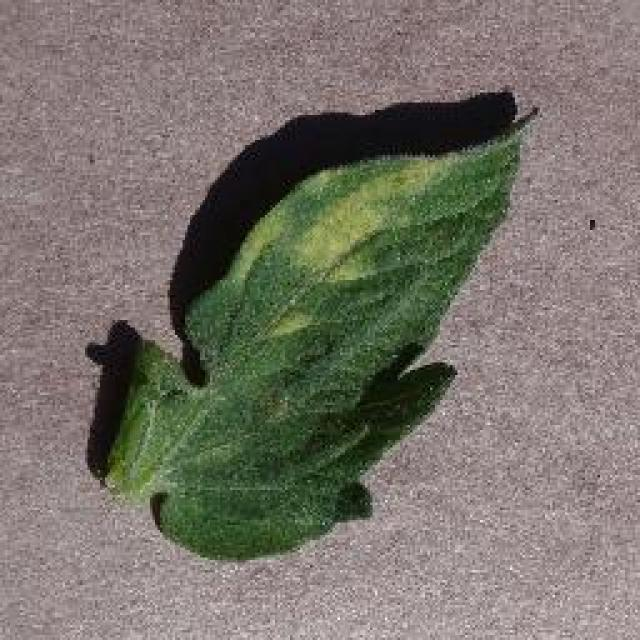Tomato mold leaf: (106, 132, 520, 560)
